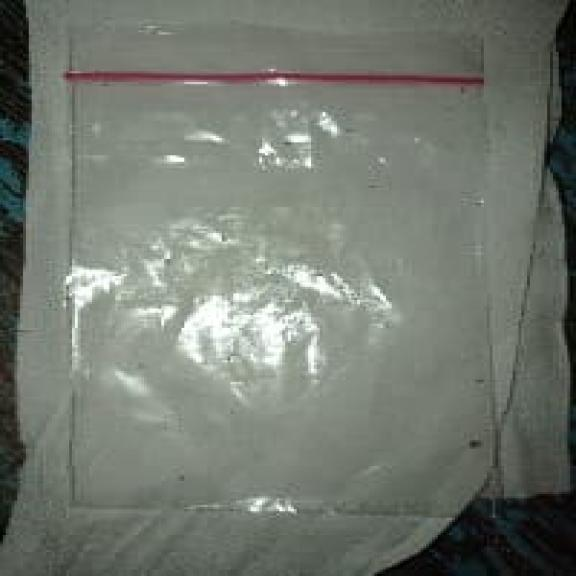Plastik: (3, 1, 567, 574), (72, 85, 488, 513), (72, 0, 484, 70)
